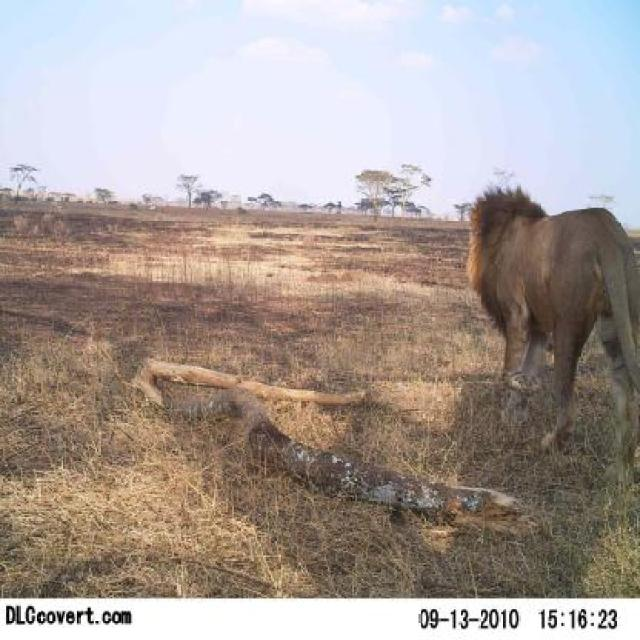Lion: (457, 171, 638, 494)
